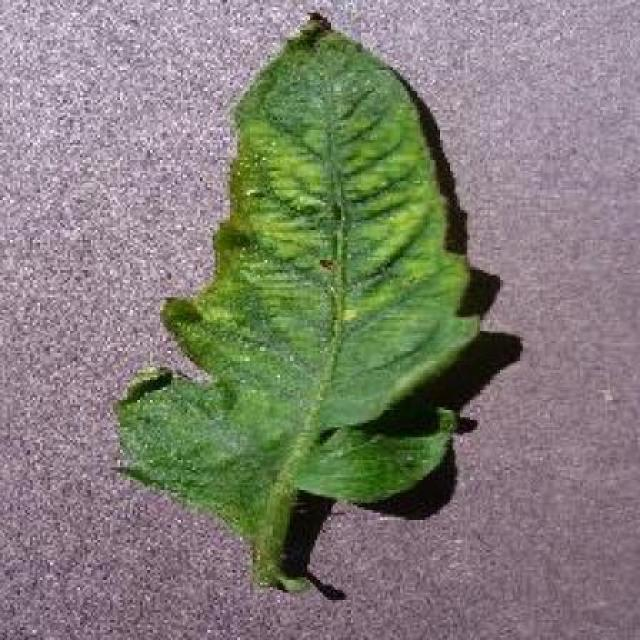Mosaic Virus: (106, 10, 485, 540)
